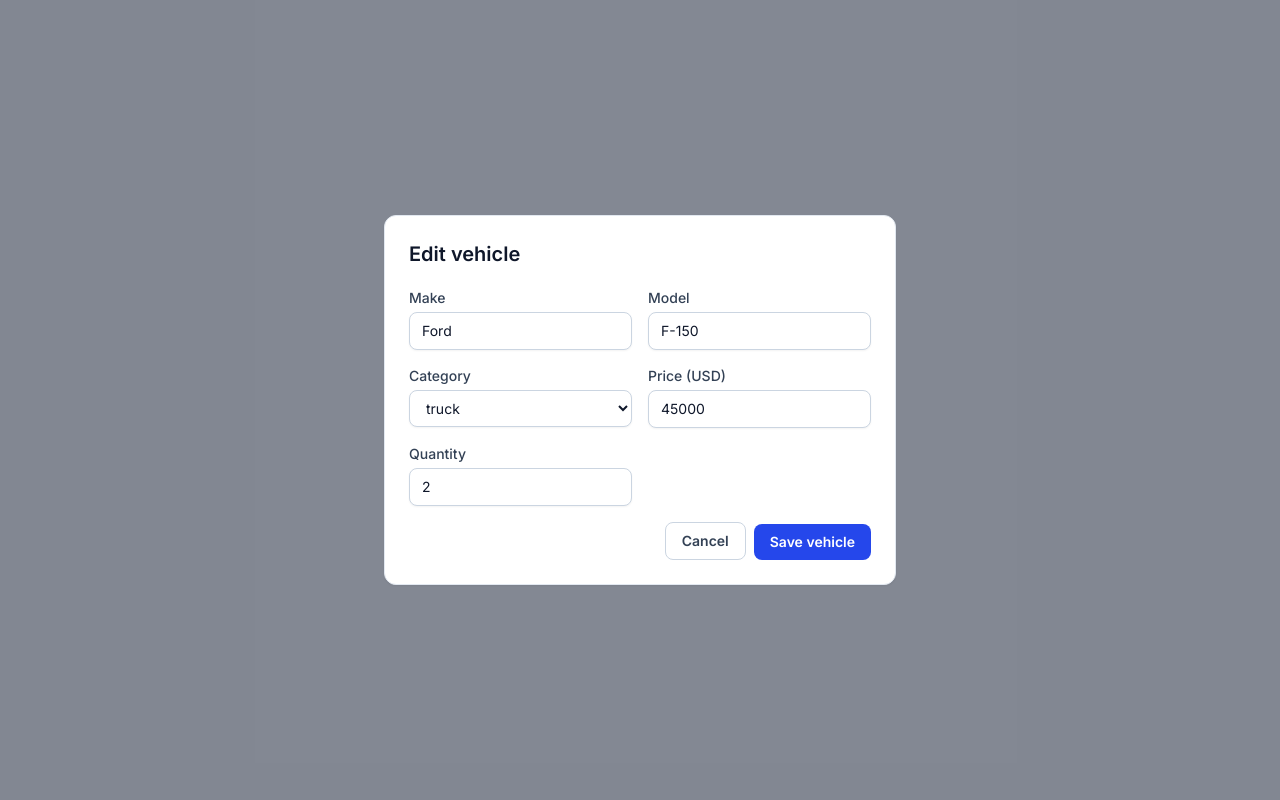
VehicleFormModal › rejects a negative price
The image size is (1280, 800).
Replace the text in the number field labelled "Price (USD)" with "-100" at [760, 409], box [648,390,871,428]
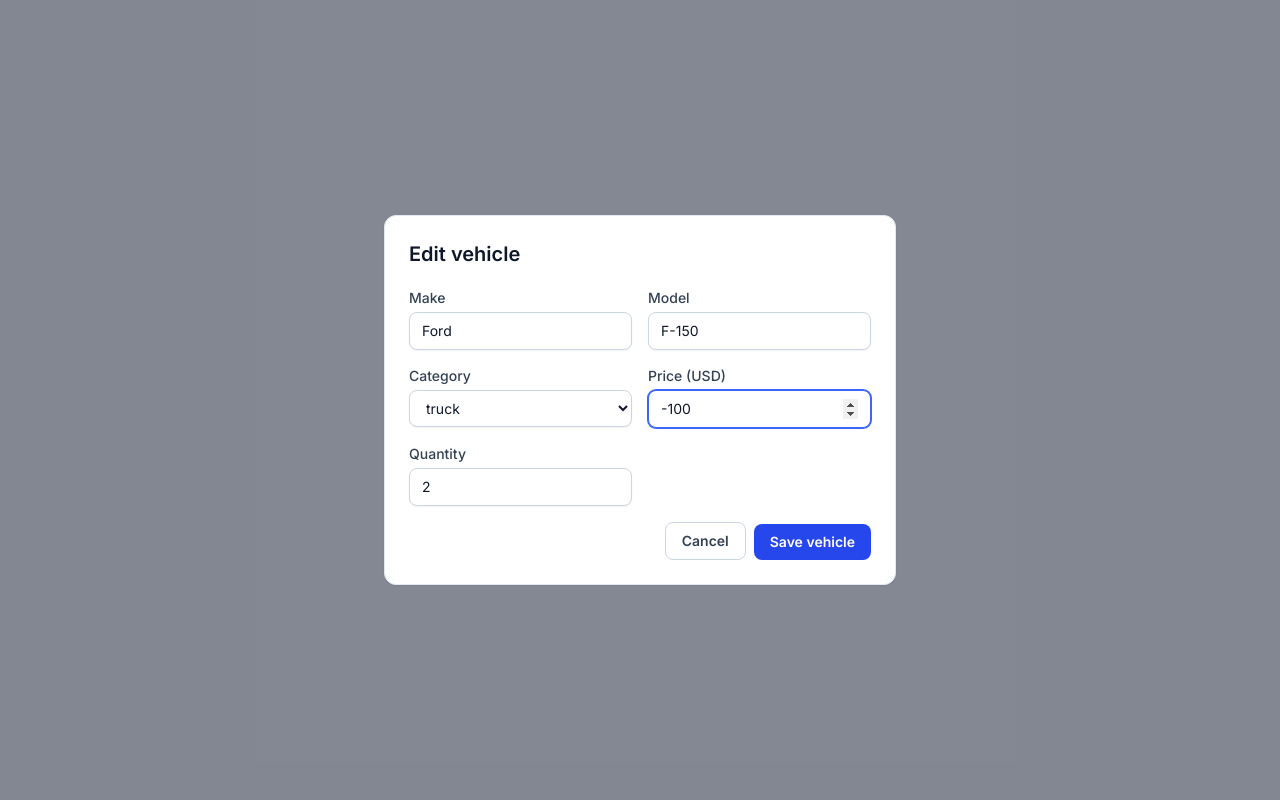
Click the button "Save vehicle" at [812, 542], box [754,524,871,560]
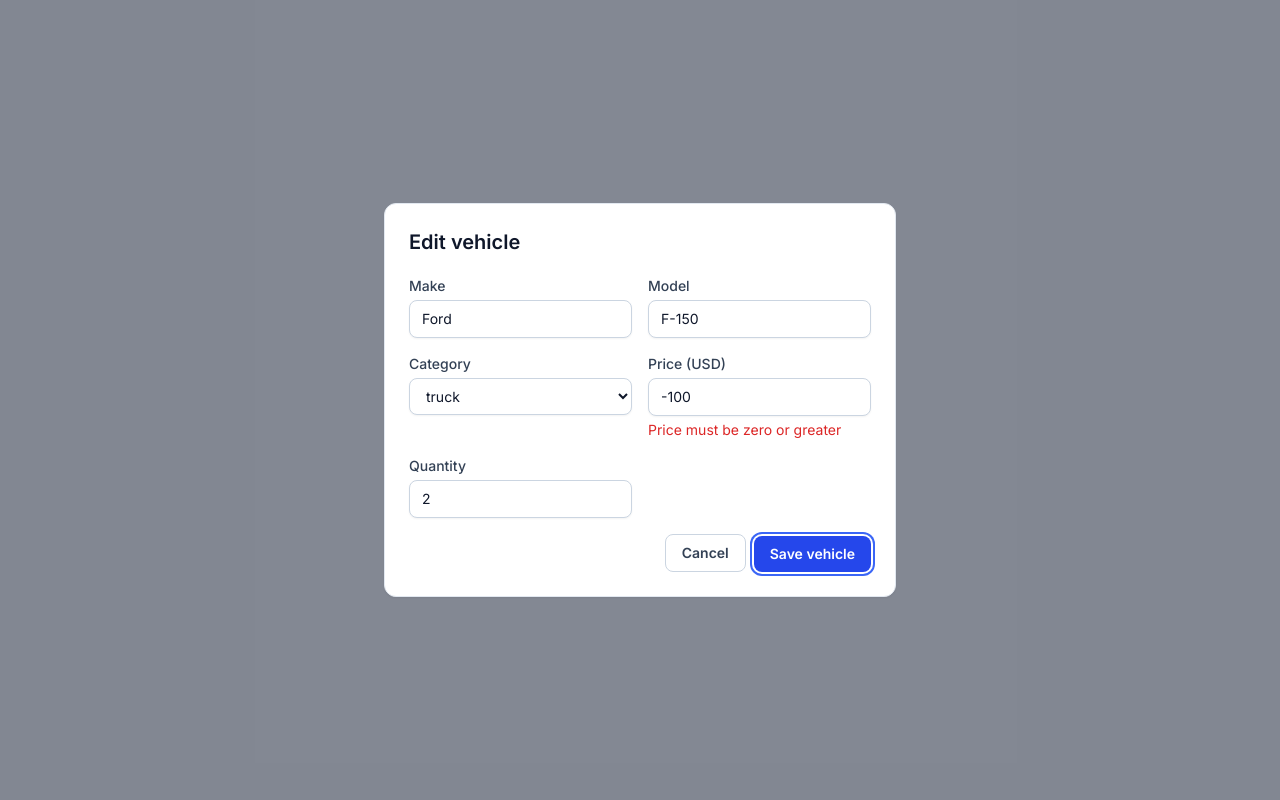
Result: the text "Price must be zero or greater" is shown at [648,420,871,440]
